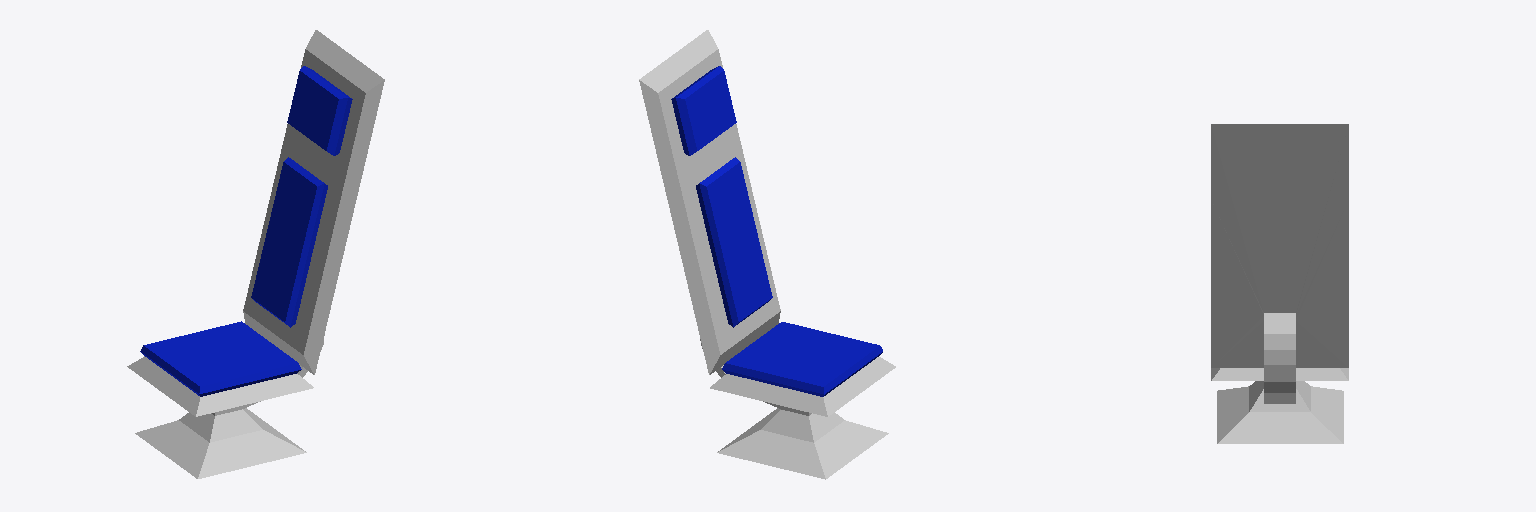
File: pod_chair.obj
3 views of the same model, side by side, from view 1: azimuth 30°, elevation 25°; view 2: azimuth 150°, elevation 25°; view 3: azimuth 270°, elevation 25° (orthographic).
Visible parts, largest first — view 1: Cube.002; view 2: Cube.002; view 3: Cube.002.
Part boxes in pixels (bbox=[...]): Cube.002: bbox=[127, 30, 384, 478]; Cube.002: bbox=[639, 30, 895, 479]; Cube.002: bbox=[1211, 124, 1348, 443].
Bounding box in the file's own units: 3.17 × 5.72 × 2.01.